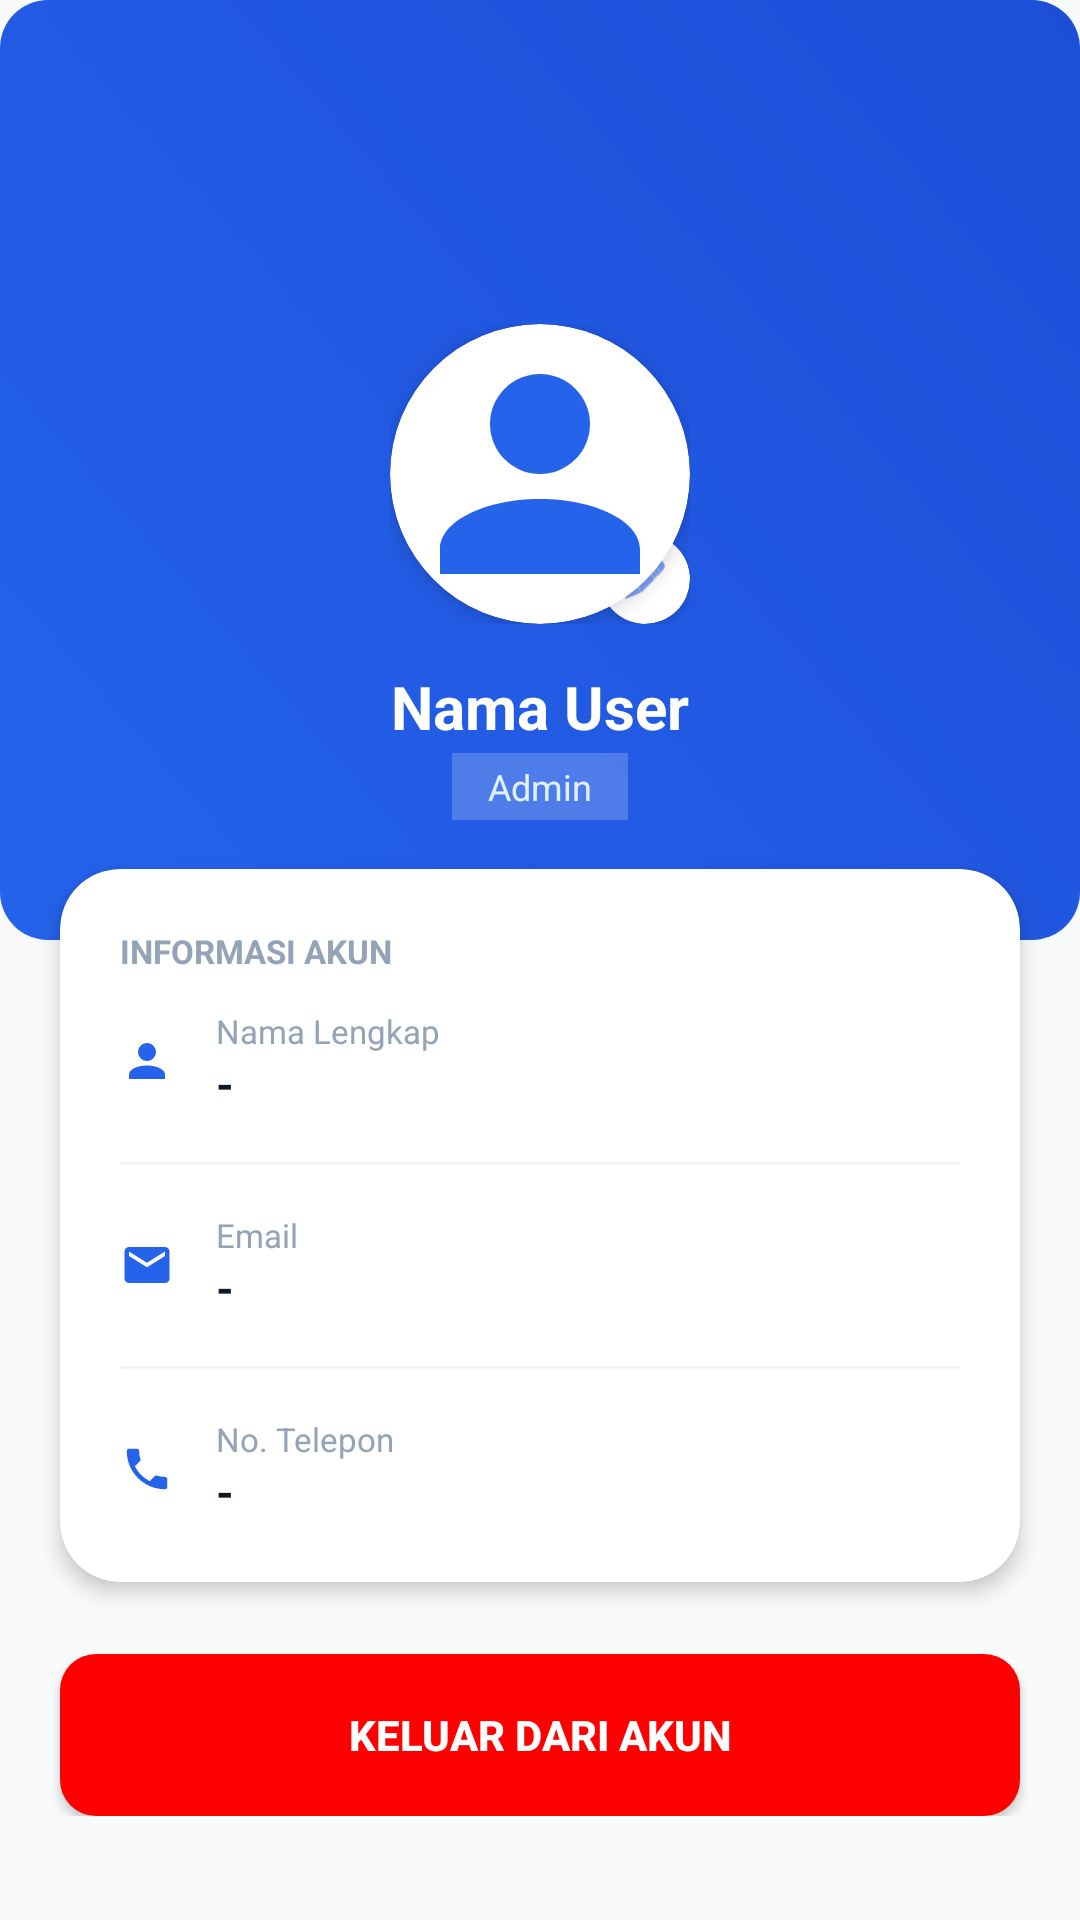

Icons on this 1080px×1920px Android screen, each with the point to tap as [x,y]:
phone: [147,1469]
